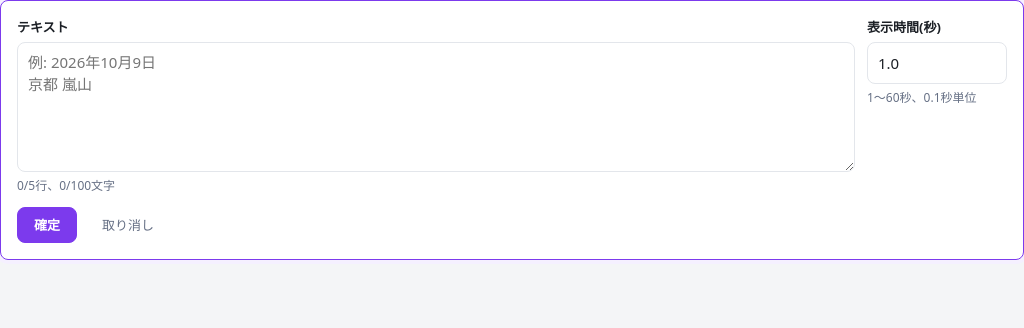
Test: 絵文字を含むテキストで「確定」を押すと、原因の文字つきの理由が表示される
This screenshot has width=1024, height=328.
In the text box labelled "テキスト": (436,107) [17, 42, 855, 172], type "京都😀"
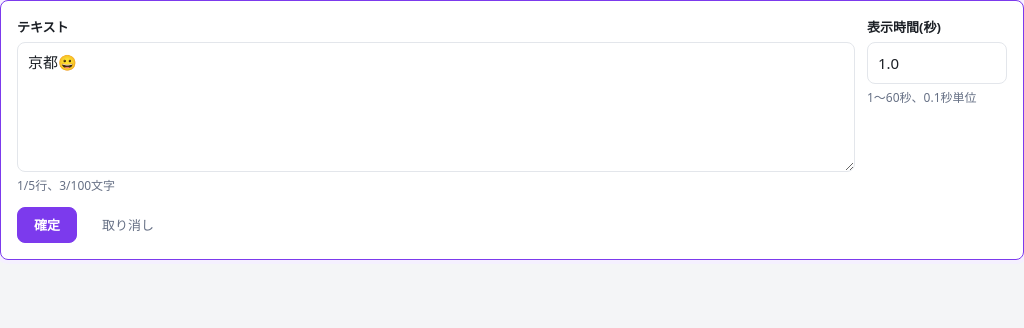
Click the button "確定": (47,226) [17, 208, 77, 244]
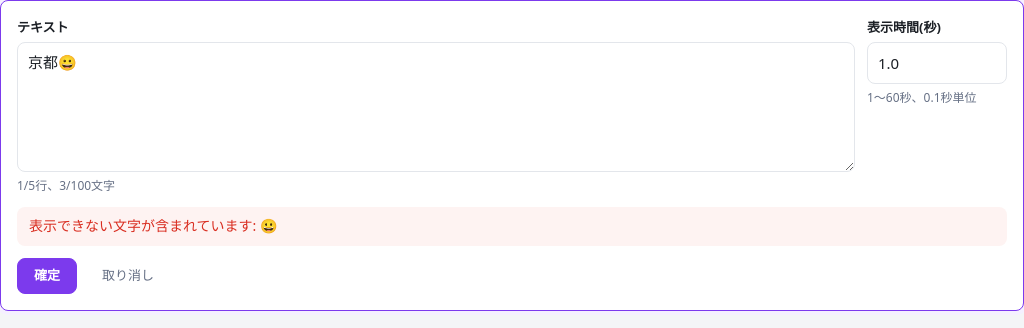
Check: the text "表示できない文字が含まれています: 😀" is shown, box [17, 208, 1007, 246]
